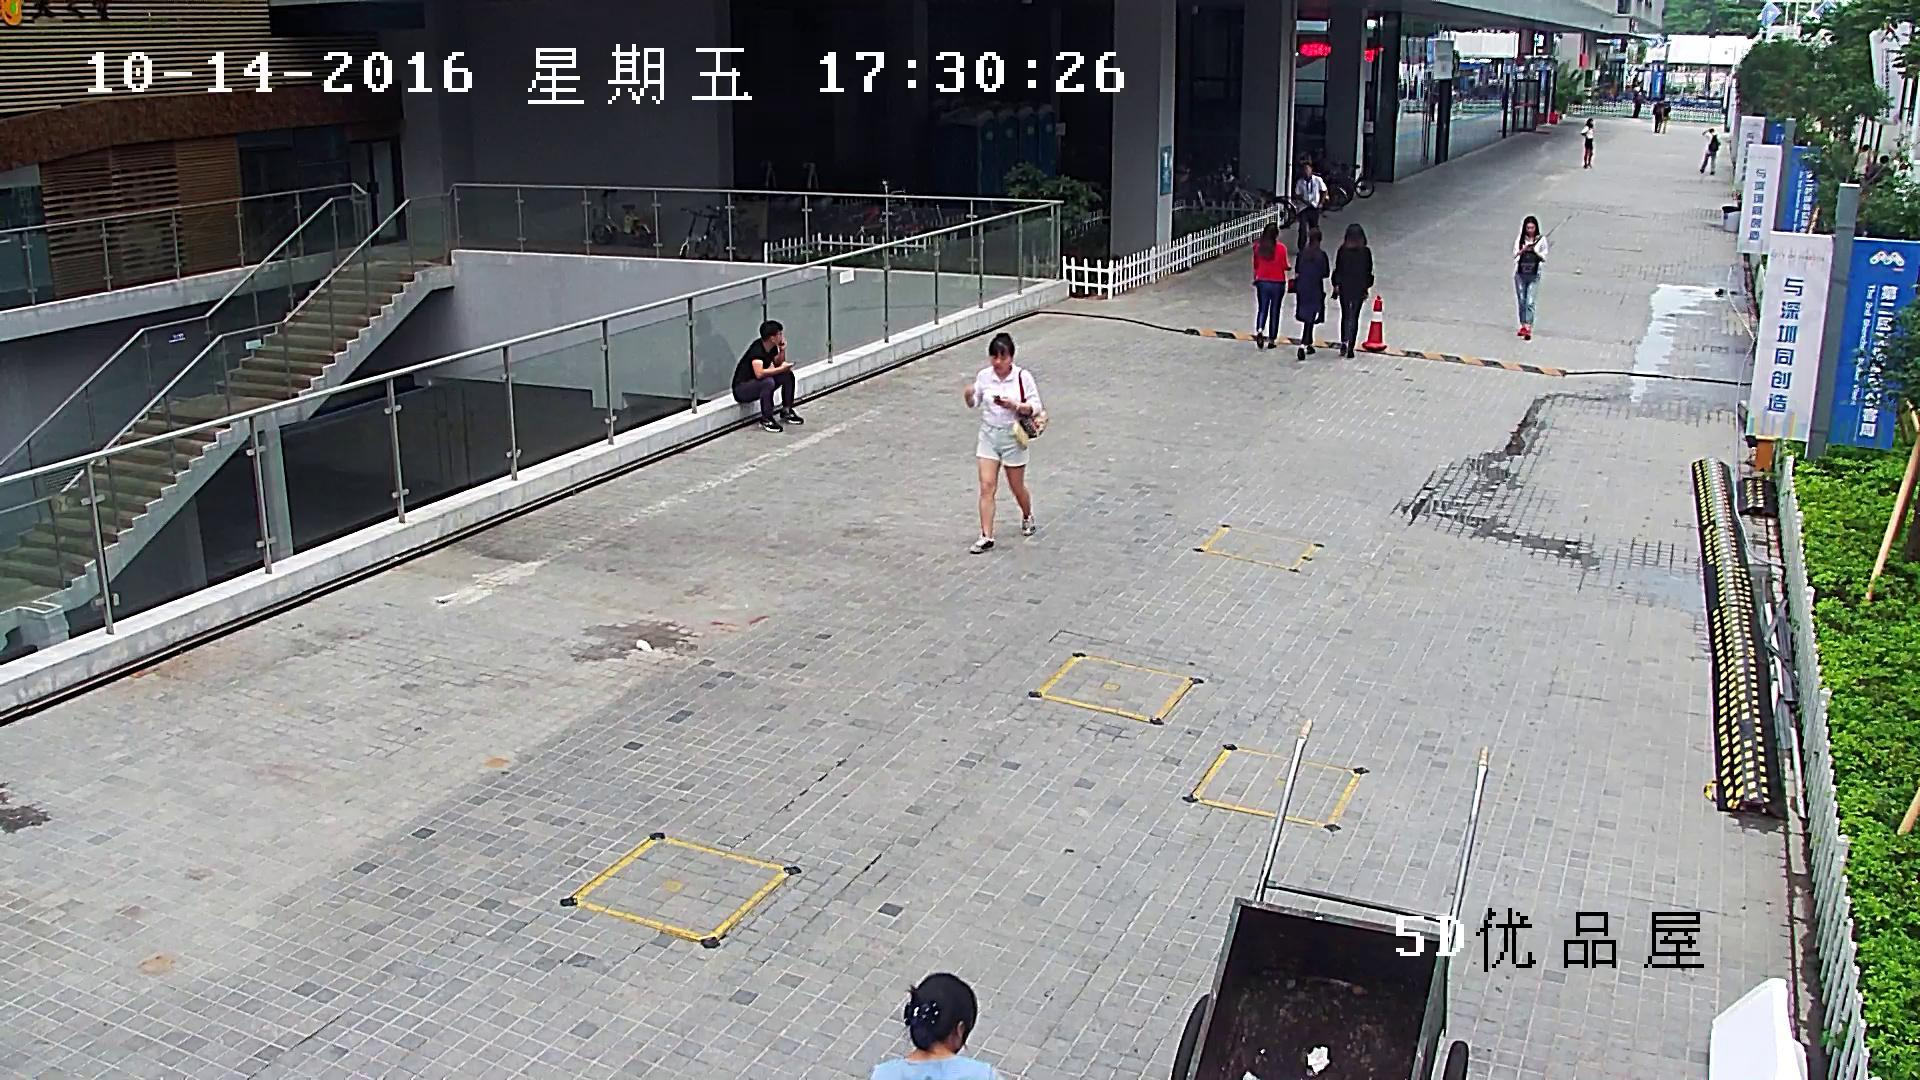person: (963, 332, 1047, 553), (871, 971, 1004, 1080), (730, 319, 804, 432), (1331, 223, 1374, 357), (1287, 227, 1330, 360), (1253, 222, 1291, 349), (1511, 216, 1548, 339), (1294, 161, 1327, 253), (1698, 127, 1720, 174), (1580, 117, 1594, 168), (1854, 144, 1874, 178), (1867, 155, 1895, 180), (1658, 102, 1671, 133), (1653, 99, 1665, 133), (1632, 90, 1644, 118)
